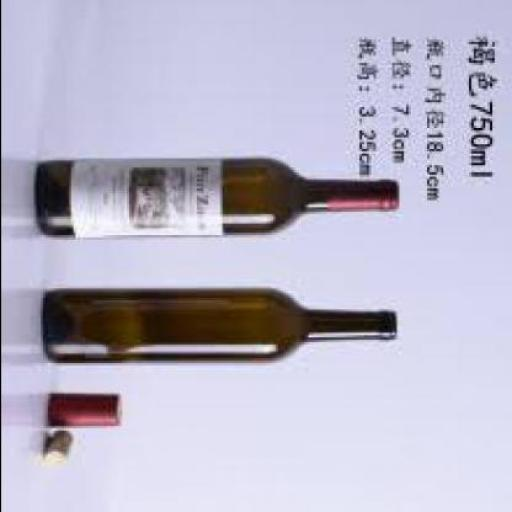glass: (44, 282, 396, 360), (35, 159, 331, 235)
metal: (49, 389, 123, 428), (331, 177, 400, 209), (47, 425, 76, 461)
